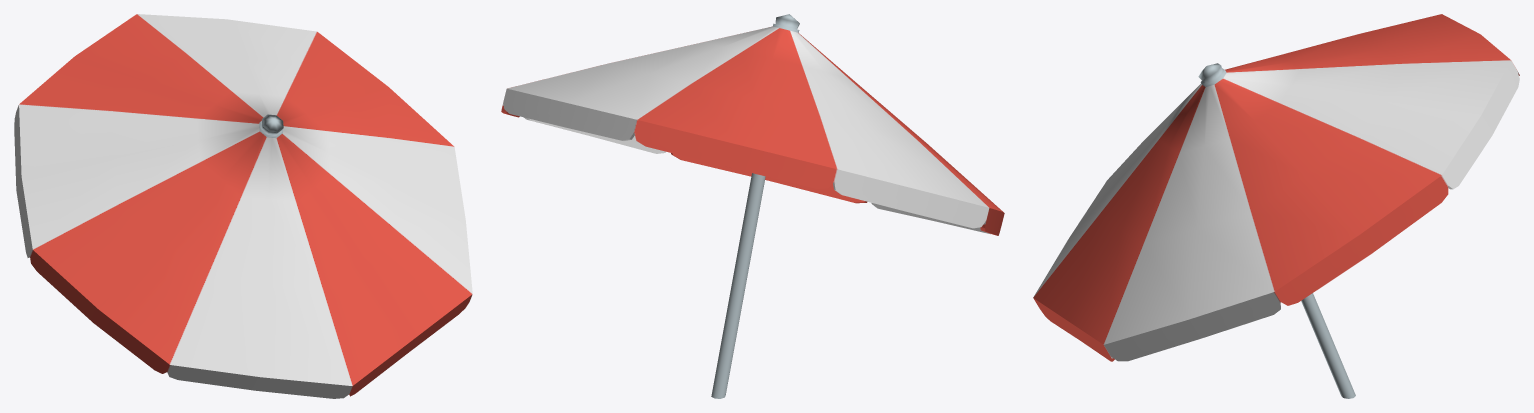
File: OP-Beach_Umbrella_45_Degree.fbx
The picture shows the model from 3 angles, left to right: view 1: azimuth 30°, elevation 25°; view 2: azimuth 150°, elevation 25°; view 3: azimuth 270°, elevation 25°; orthographic projection. The views are drawn at different scales.
Visible parts, largest first — view 1: Cylinder.004; view 2: Cylinder.004; view 3: Cylinder.004.
Boxes of the visible parts, x1=… form: Cylinder.004: x1=14, y1=14, x2=472, y2=398; Cylinder.004: x1=501, y1=14, x2=1004, y2=398; Cylinder.004: x1=1033, y1=14, x2=1519, y2=398.
Size of the model in its own units: 1226 by 1105 by 841.
